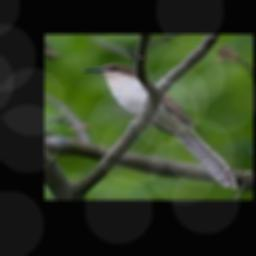Cuckoo: (82, 63, 236, 189)
